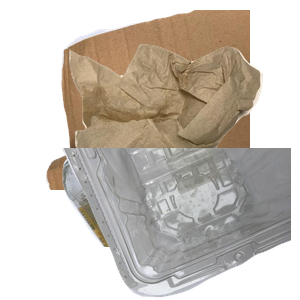cardboard: (43, 10, 283, 190)
glass: (60, 120, 300, 300)
plastic: (60, 148, 300, 300)
trash: (67, 42, 300, 206)
